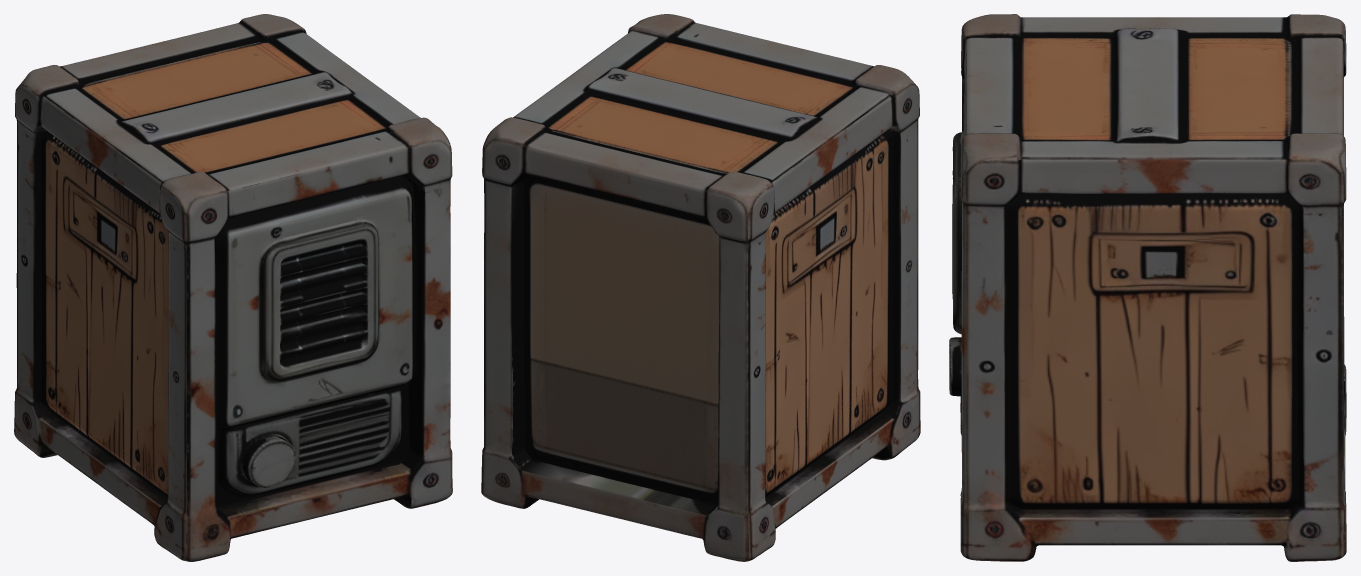
The model's file is catalog-build-80.glb.
3 renders of one model, left to right at view 1: azimuth 30°, elevation 25°; view 2: azimuth 150°, elevation 25°; view 3: azimuth 270°, elevation 25°, orthographic. The views are drawn at different scales.
Parts seen in each view (by area): view 1: tmp6v80qk00.ply; view 2: tmp6v80qk00.ply; view 3: tmp6v80qk00.ply.
Boxes of the visible parts, x1,y1,x2,y2 form: tmp6v80qk00.ply: [14, 14, 452, 561]; tmp6v80qk00.ply: [481, 14, 920, 561]; tmp6v80qk00.ply: [949, 14, 1346, 561].
Size of the model in its own units: 1.49 by 1.96 by 1.71.
1 material, 1 textured.
